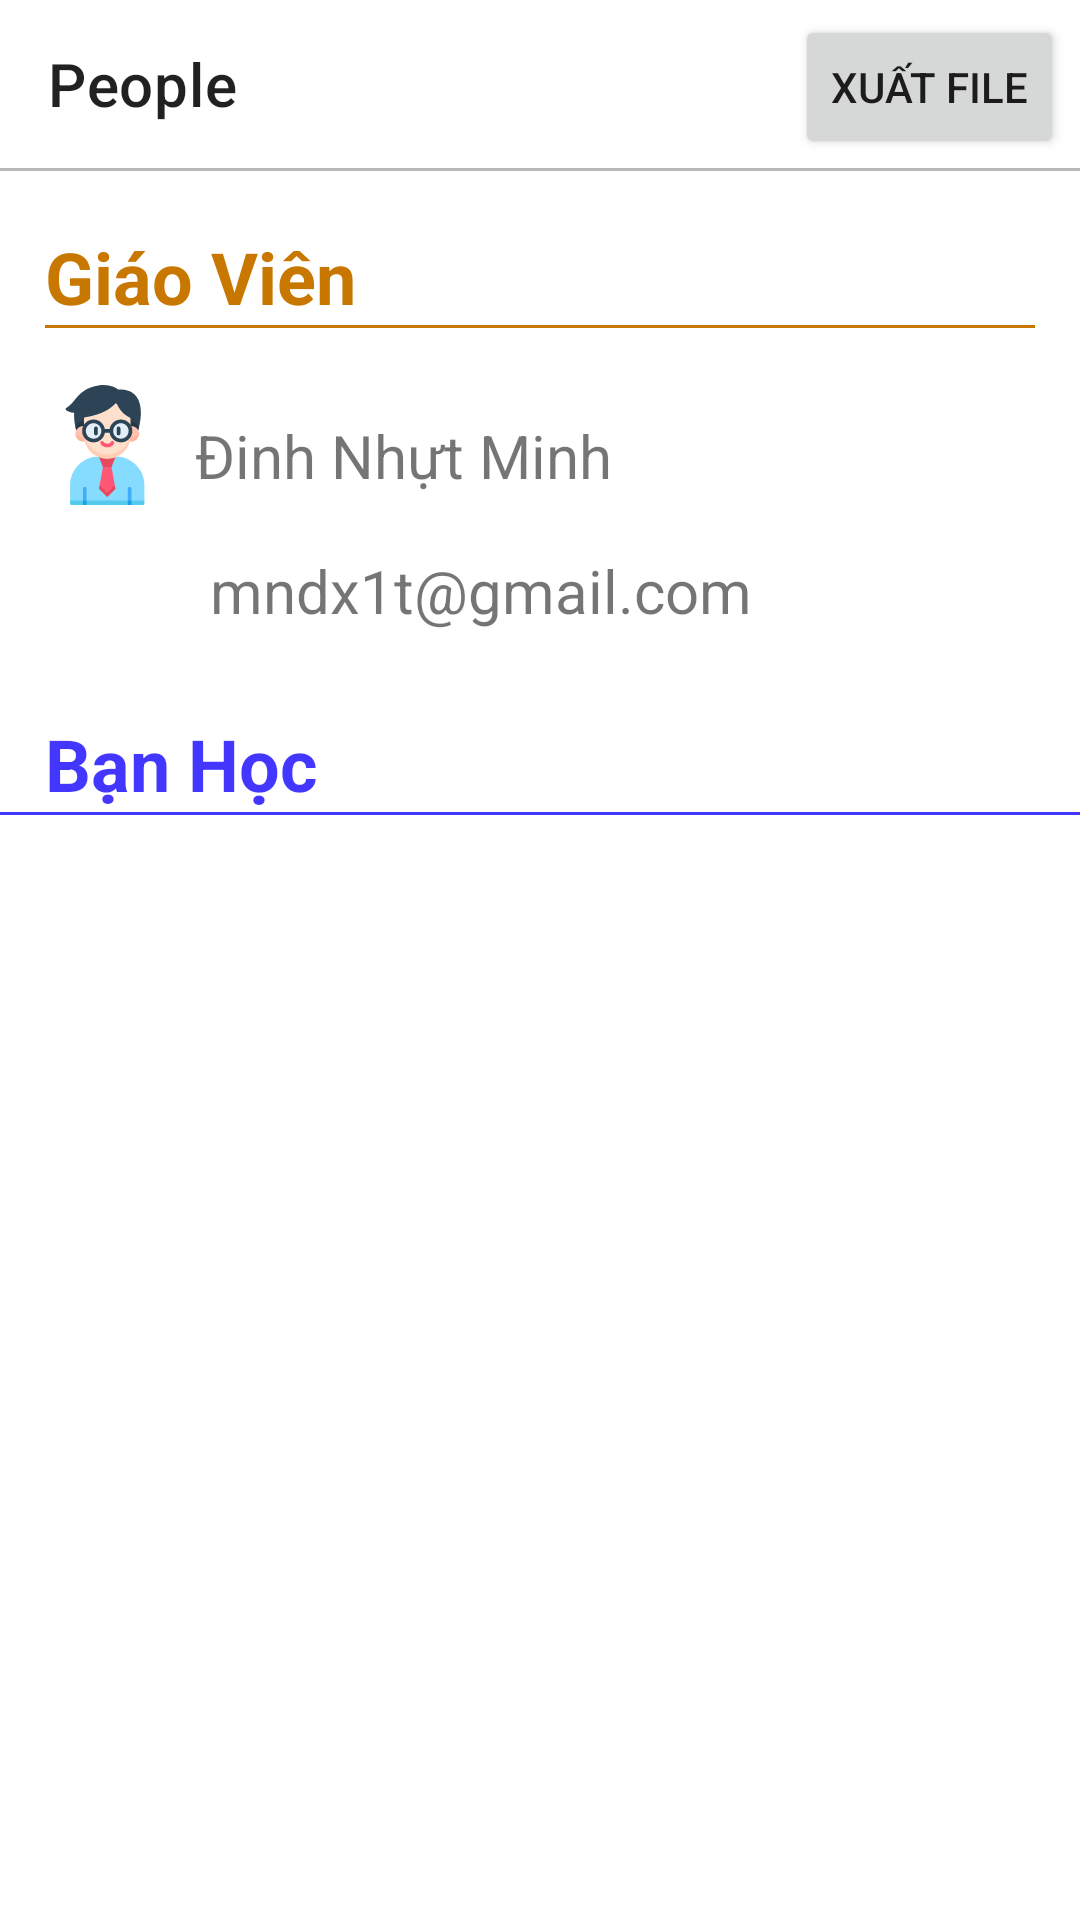

Named icons in this screenshot (1080px x 1920px) and their centers, point (x, y):
teacher: point (105, 445)
